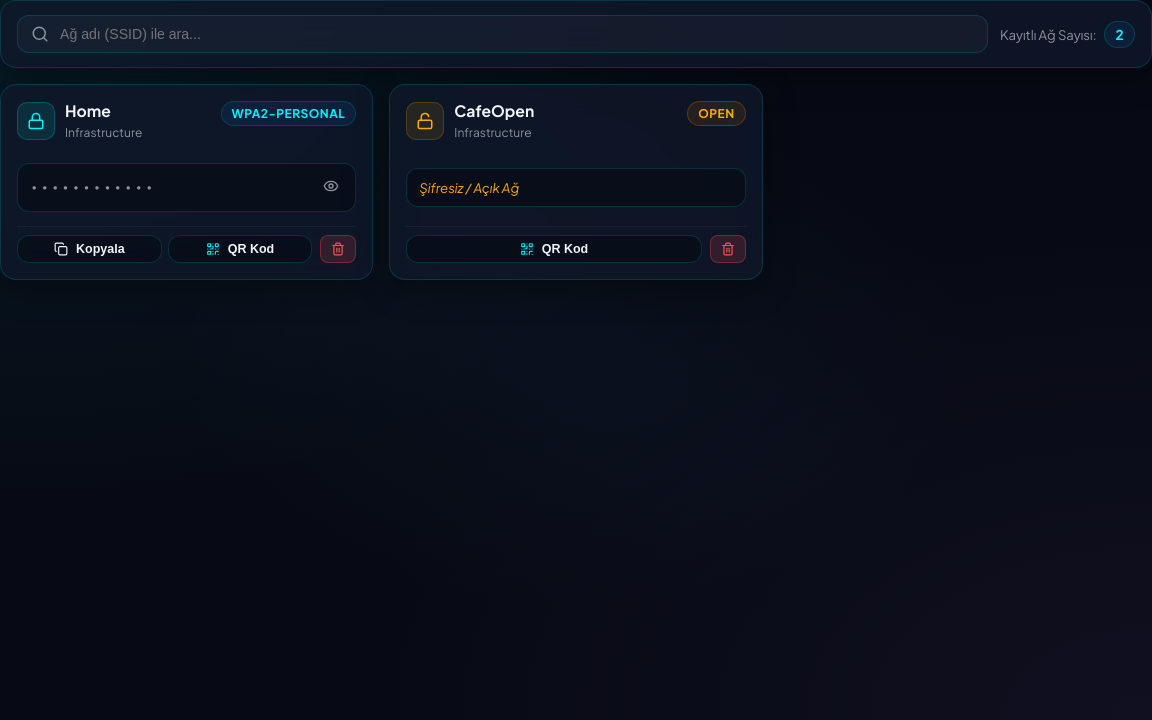
Test: PasswordsTab › hides the password behind dots until "show" is clicked
This screenshot has width=1152, height=720.
Expected: the text "SuperSecret123" is not shown
Click the button titled "Şifreyi Göster" at [331, 188], box x1=319 y1=174 x2=343 y2=201
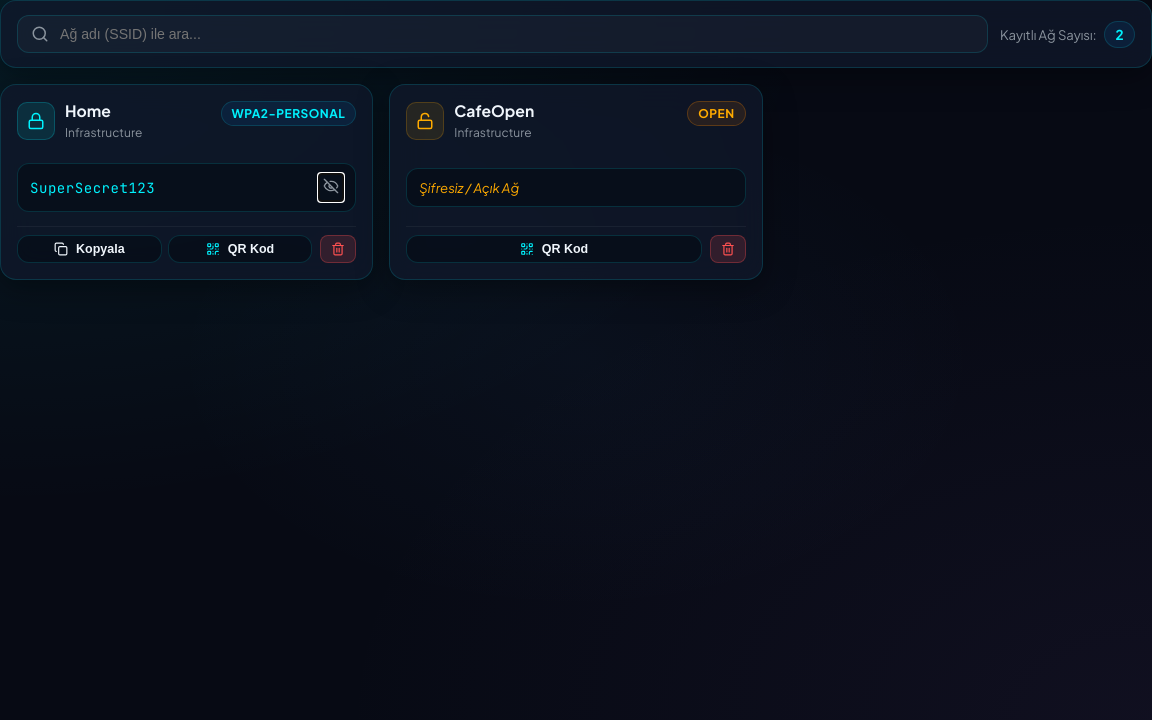
Expected: the text "SuperSecret123" is shown, x1=30 y1=178 x2=155 y2=196
